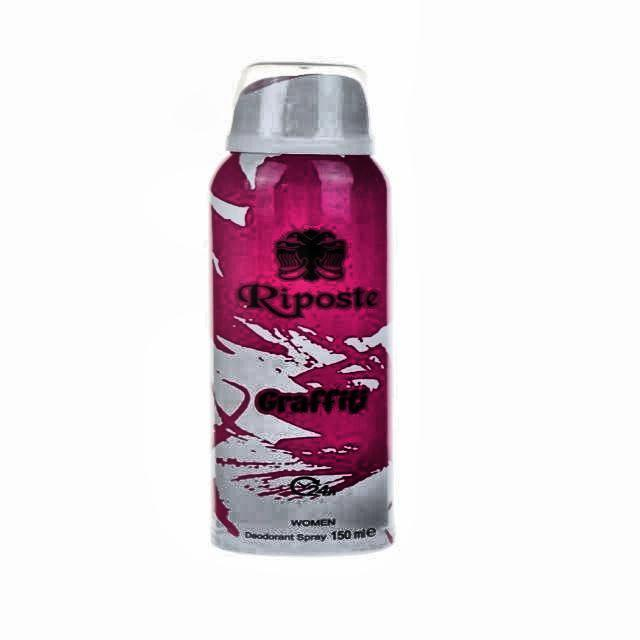metal: (208, 61, 397, 561)
